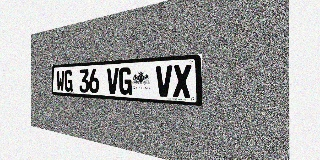3: (79, 69, 89, 93)
6: (89, 69, 99, 93)
G: (119, 67, 132, 95), (64, 70, 72, 92)
V: (156, 65, 172, 97), (107, 68, 119, 94)
W: (57, 70, 64, 91)
X: (173, 64, 191, 98)
